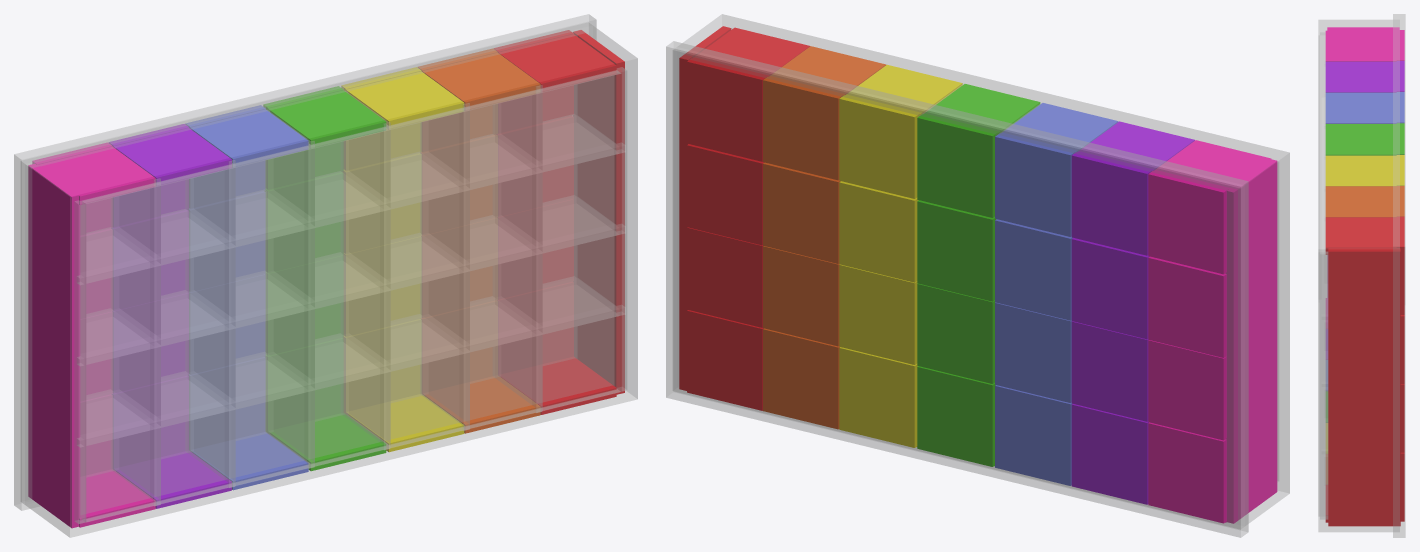
The model's file is dailyPillBox.fbx.
3 views of the same model, side by side, from view 1: azimuth 30°, elevation 25°; view 2: azimuth 150°, elevation 25°; view 3: azimuth 270°, elevation 25° (orthographic). The views are drawn at different scales.
Visible parts, largest first — view 1: Cube, Cube.031, Cube.047, Cube.001, Cube.005, Cube.002, Cube.019, Cube.020, Cube.006, Cube.003, Cube.007, Cube.021 (+19 smaller); view 2: Cube.047, Cube, Cube.031, Cube.016, Cube.012, Cube.015, Cube.013, Cube.011, Cube.014, Cube.005, Cube.004, Cube.009 (+19 smaller); view 3: Cube, Cube.031, Cube.047, Cube.009, Cube.007, Cube.024, Cube.017, Cube.013, Cube.014, Cube.012, Cube.015, Cube.016 (+1 smaller).
Part boxes in pixels (bbox=[...]): Cube: bbox=[21, 22, 637, 537]; Cube.031: bbox=[28, 30, 624, 528]; Cube.047: bbox=[14, 14, 596, 510]; Cube.001: bbox=[265, 172, 343, 272]; Cube.005: bbox=[343, 153, 421, 253]; Cube.002: bbox=[188, 191, 265, 291]; Cube.019: bbox=[343, 236, 421, 336]; Cube.020: bbox=[266, 255, 343, 355]; Cube.006: bbox=[421, 134, 497, 235]; Cube.003: bbox=[111, 210, 188, 310]; Cube.007: bbox=[497, 116, 573, 216]; Cube.021: bbox=[189, 274, 265, 374]; Cube.047: bbox=[666, 41, 1248, 537]; Cube: bbox=[673, 14, 1289, 529]; Cube.031: bbox=[679, 26, 1277, 523]; Cube.016: bbox=[1148, 170, 1228, 274]; Cube.012: bbox=[839, 95, 919, 198]; Cube.015: bbox=[1071, 152, 1151, 255]; Cube.013: bbox=[917, 114, 997, 217]; Cube.011: bbox=[763, 77, 843, 180]; Cube.014: bbox=[995, 133, 1074, 236]; Cube.005: bbox=[839, 181, 918, 282]; Cube.004: bbox=[1148, 256, 1226, 357]; Cube.009: bbox=[687, 58, 766, 161]; Cube: bbox=[1318, 19, 1399, 532]; Cube.031: bbox=[1325, 27, 1400, 526]; Cube.047: bbox=[1393, 14, 1405, 537]; Cube.009: bbox=[1396, 216, 1404, 314]; Cube.007: bbox=[1400, 315, 1404, 384]; Cube.024: bbox=[1400, 452, 1404, 521]; Cube.017: bbox=[1400, 384, 1404, 452]; Cube.013: bbox=[1396, 123, 1404, 154]; Cube.014: bbox=[1396, 92, 1404, 123]; Cube.012: bbox=[1396, 155, 1404, 185]; Cube.015: bbox=[1396, 61, 1404, 91]; Cube.016: bbox=[1396, 30, 1404, 60].
Bounding box in the file's own units: 390 × 227 × 61.68.
